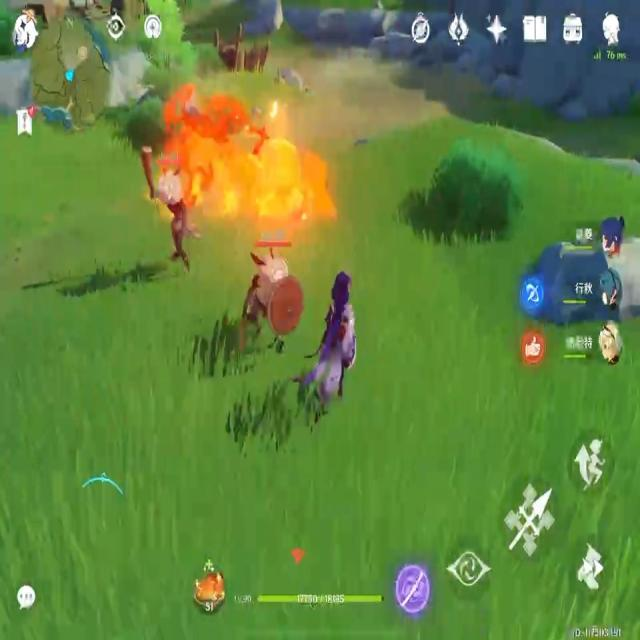genshin-hilichurls: (237, 236, 304, 360), (143, 140, 195, 270)
